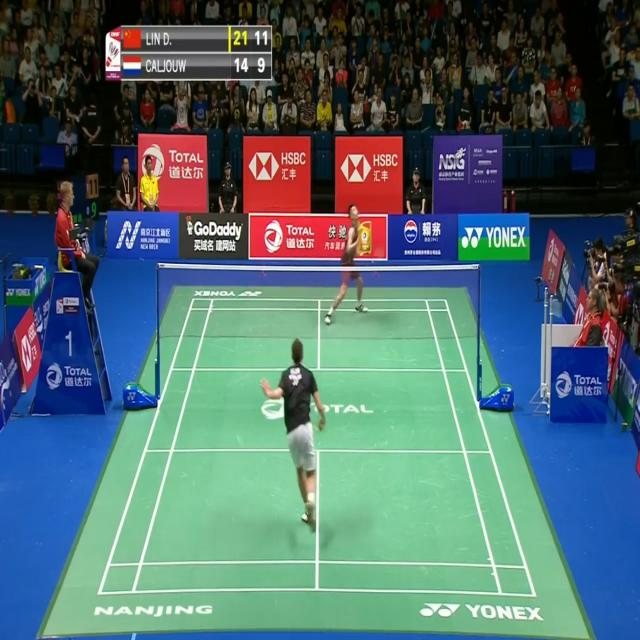Player1: (257, 330, 329, 536)
Player2: (320, 195, 372, 332)
